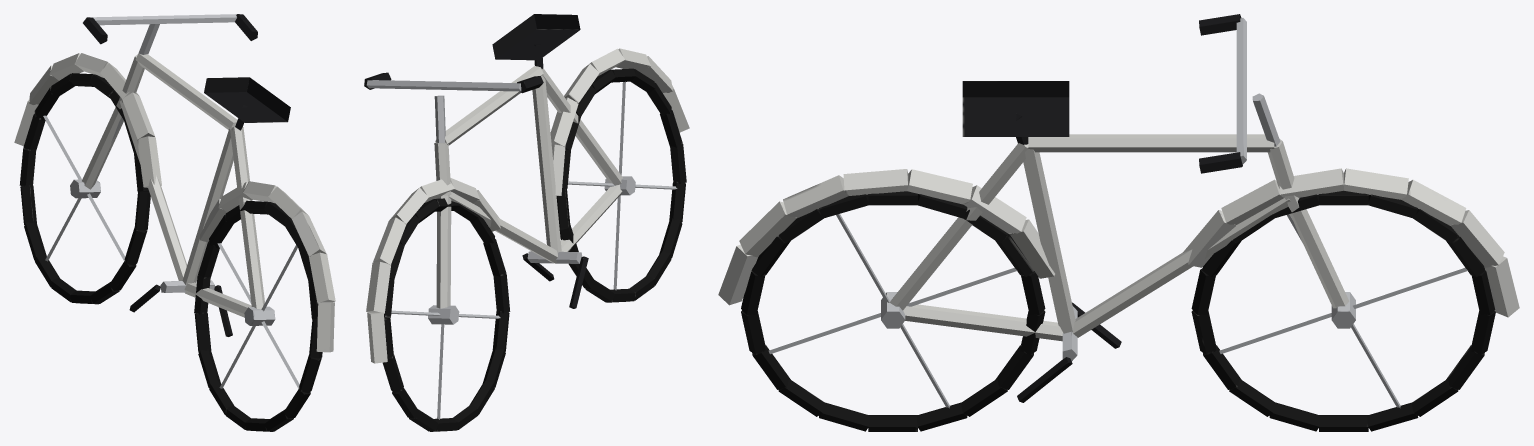
The model's file is kolo_4b4adb95.glb.
3 renders of one model, left to right at view 1: azimuth 30°, elevation 25°; view 2: azimuth 150°, elevation 25°; view 3: azimuth 270°, elevation 25°, orthographic. The views are drawn at different scales.
Visible parts, largest first — view 1: dum; view 2: dum; view 3: dum.
Boxes of the visible parts, x1,y1,x2,y2 form: dum: [14, 14, 335, 431]; dum: [364, 14, 689, 431]; dum: [718, 14, 1519, 431].
Size of the model in its own units: 0.5867 by 1.09 by 1.95.
Materials: 1 (1 with a texture image).
